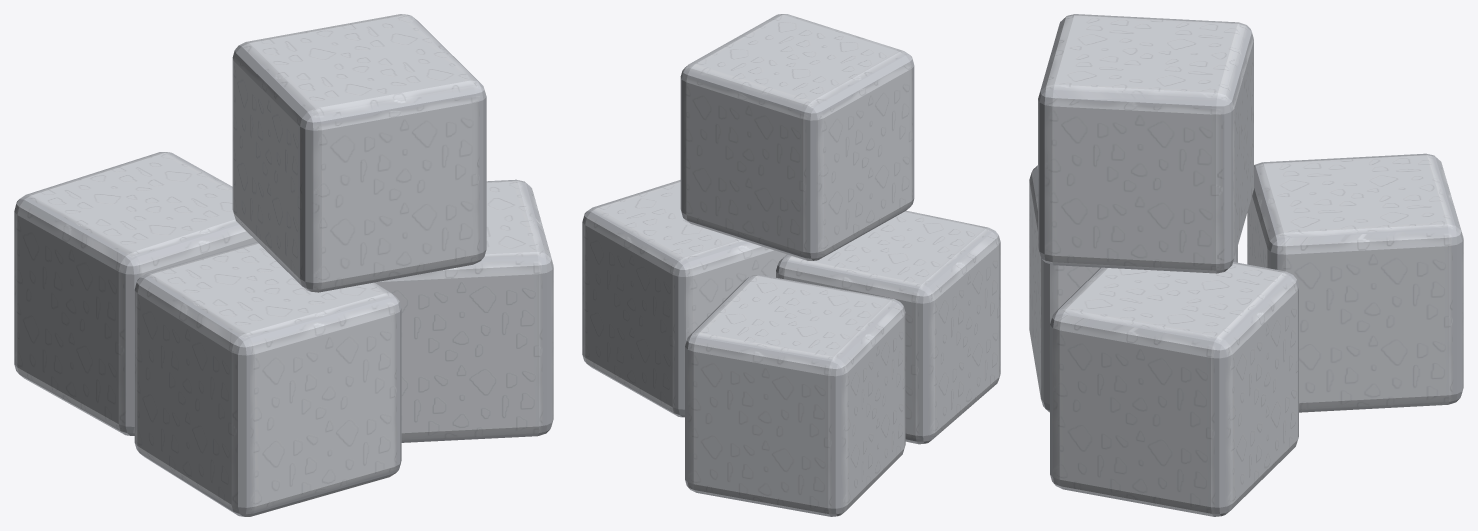
Rendered from sugar.glb.
The picture shows the model from 3 angles, left to right: view 1: azimuth 30°, elevation 25°; view 2: azimuth 150°, elevation 25°; view 3: azimuth 270°, elevation 25°; orthographic projection. The views are drawn at different scales.
Visible parts, largest first — view 1: Cube.004; view 2: Cube.004; view 3: Cube.004.
Part boxes in pixels (bbox=[...]): Cube.004: bbox=[14, 14, 553, 516]; Cube.004: bbox=[582, 14, 1000, 516]; Cube.004: bbox=[1029, 14, 1463, 516].
Bounding box in the file's own units: 1.68 × 1.48 × 1.58.
1 material, 1 textured.
